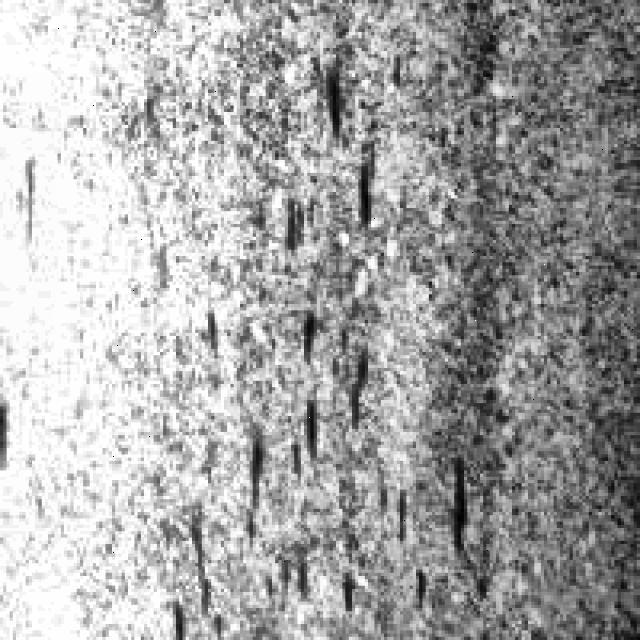Patches: (218, 298, 406, 596)
